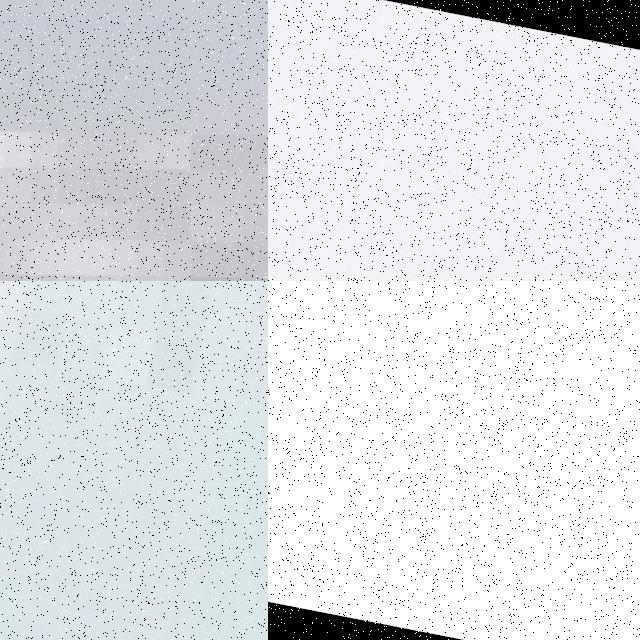drone: (0, 0, 268, 281)
